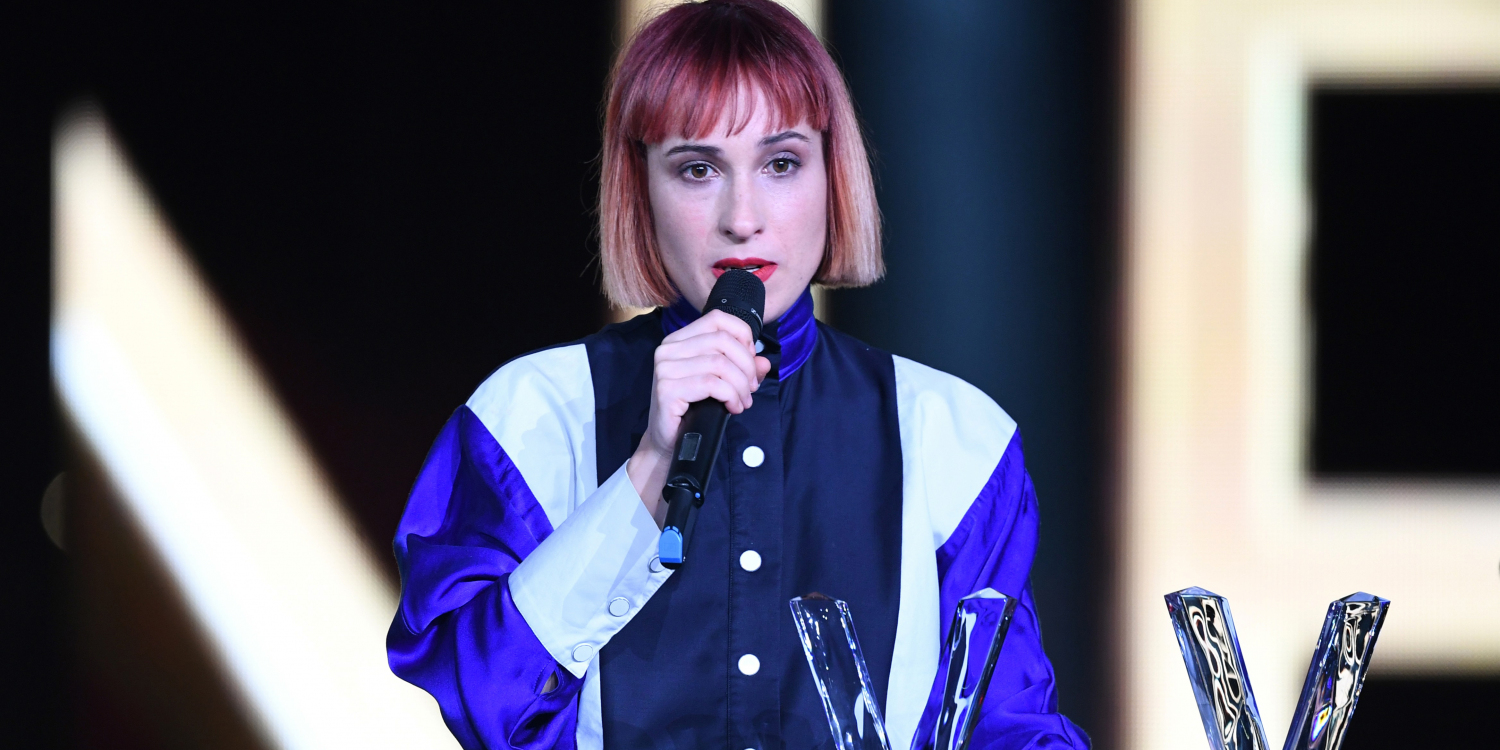without_mask: (650, 119, 822, 319)
